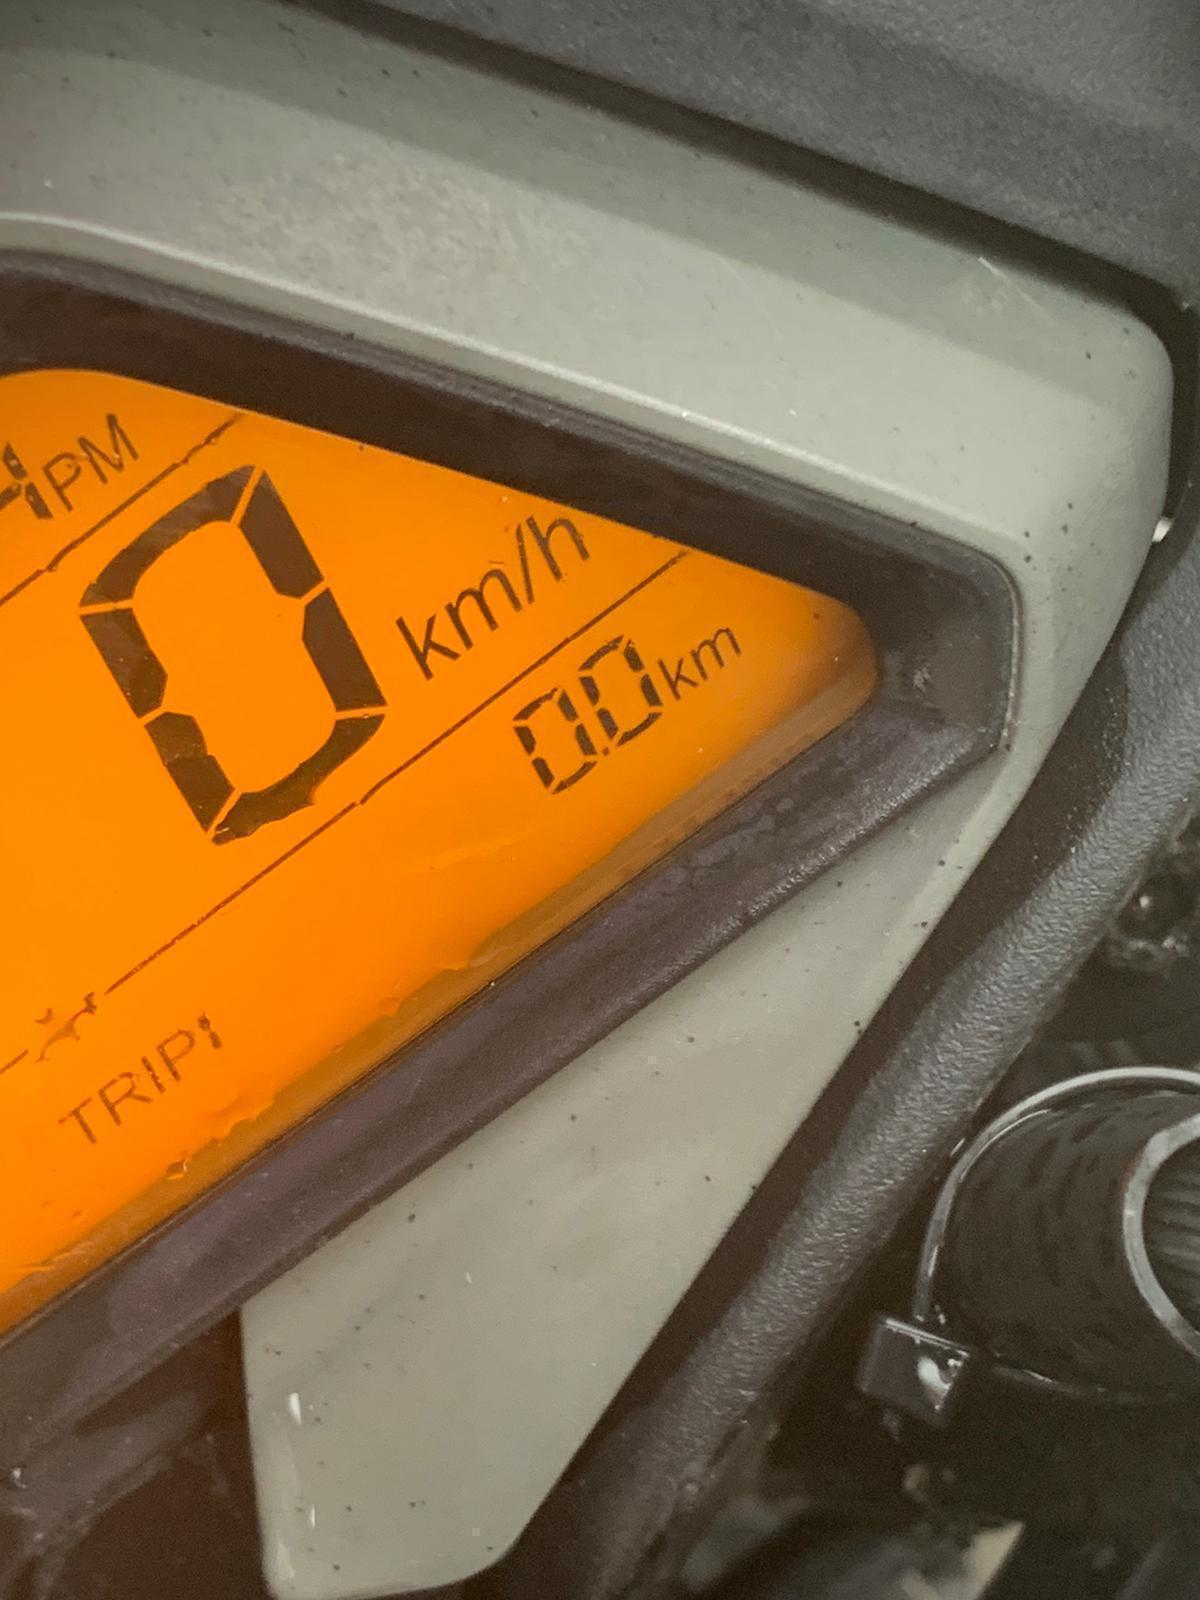,: (596, 736, 615, 762)
0: (76, 477, 395, 837), (509, 677, 597, 803), (577, 637, 664, 746)
1: (194, 997, 236, 1065)
X: (442, 561, 524, 643), (523, 498, 597, 585), (76, 403, 146, 484), (389, 609, 458, 683), (45, 1097, 106, 1154), (96, 1066, 149, 1128), (693, 621, 744, 678), (509, 520, 541, 606), (154, 1026, 197, 1089), (47, 446, 86, 510), (654, 656, 698, 700), (135, 1047, 163, 1105)
odometer: (0, 304, 943, 1364)
